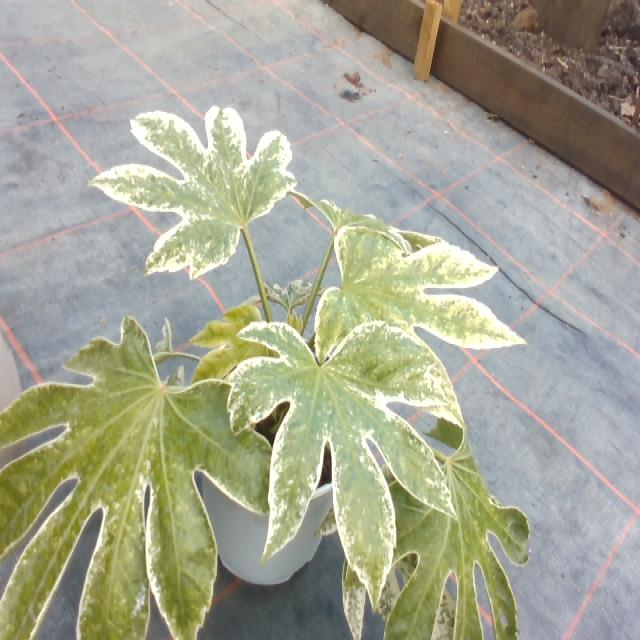Fatsia-japonica: (0, 310, 269, 640), (231, 305, 458, 588), (310, 403, 574, 640), (71, 86, 306, 282), (310, 206, 514, 398), (287, 171, 462, 273), (174, 297, 274, 404), (256, 262, 316, 312)
